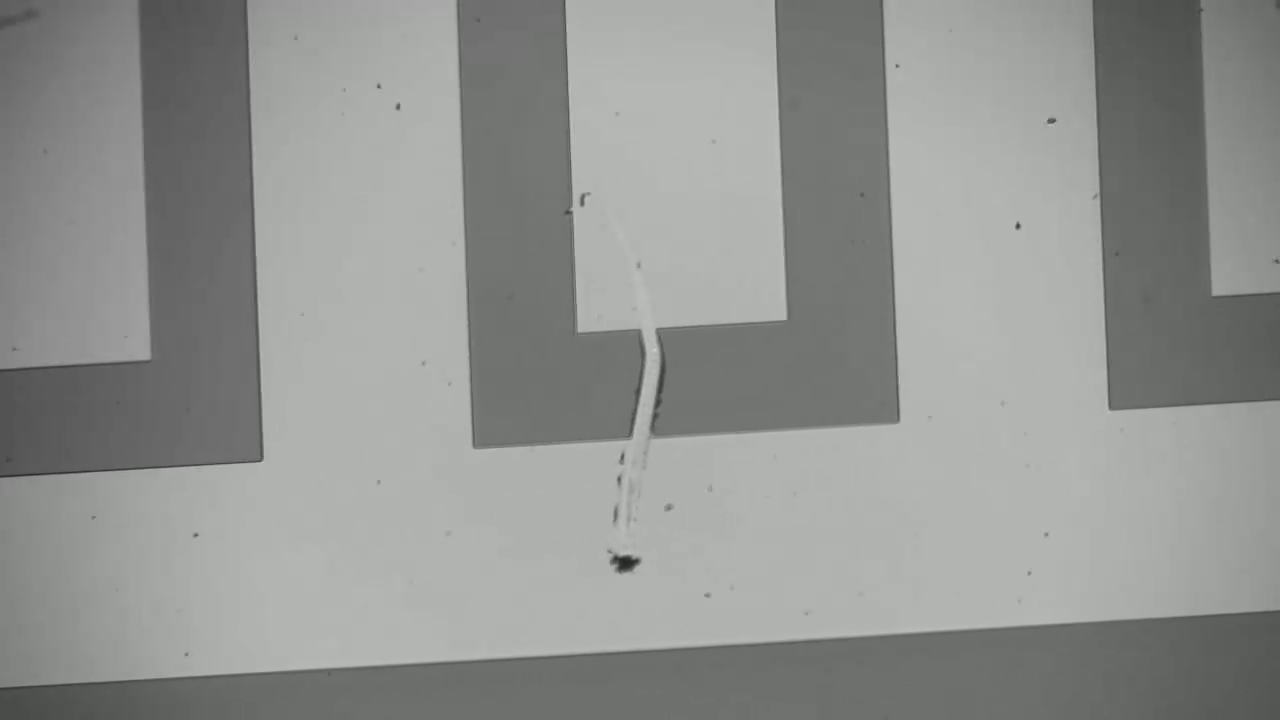Short_circuit: (610, 302, 691, 473)
